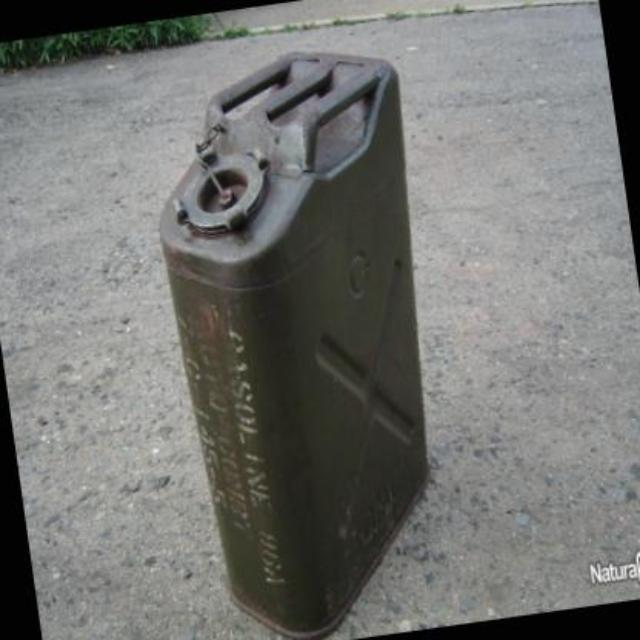chemical_plastic_gallon: (128, 26, 482, 638)
